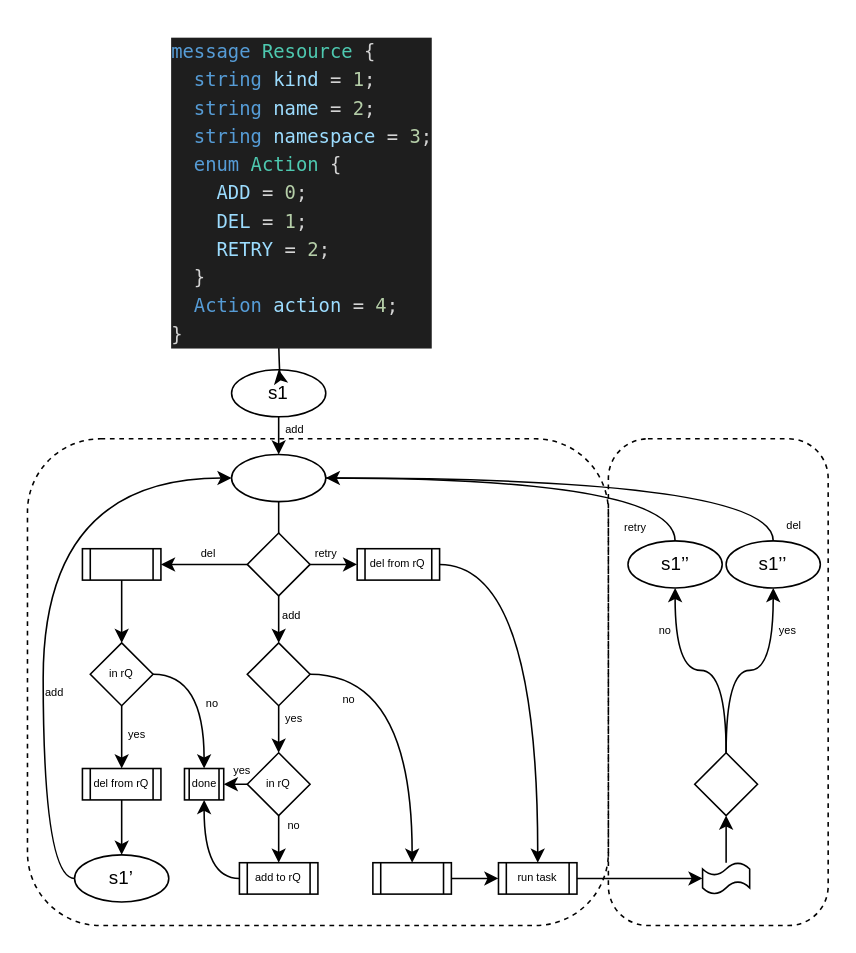
The diagram is 856 pixels wide and 953 high, and some of its shapes have lost their labels. The shapes that lost their labels are listed below. From the top down, each one's centre as x and y in pixels, then its label:
At (278,477): "r1".
At (121,563): "del from wQ".
At (278,563): "action".
At (278,673): "in wQ".
At (725,783): "success".
At (411,877): "add to wQ".
